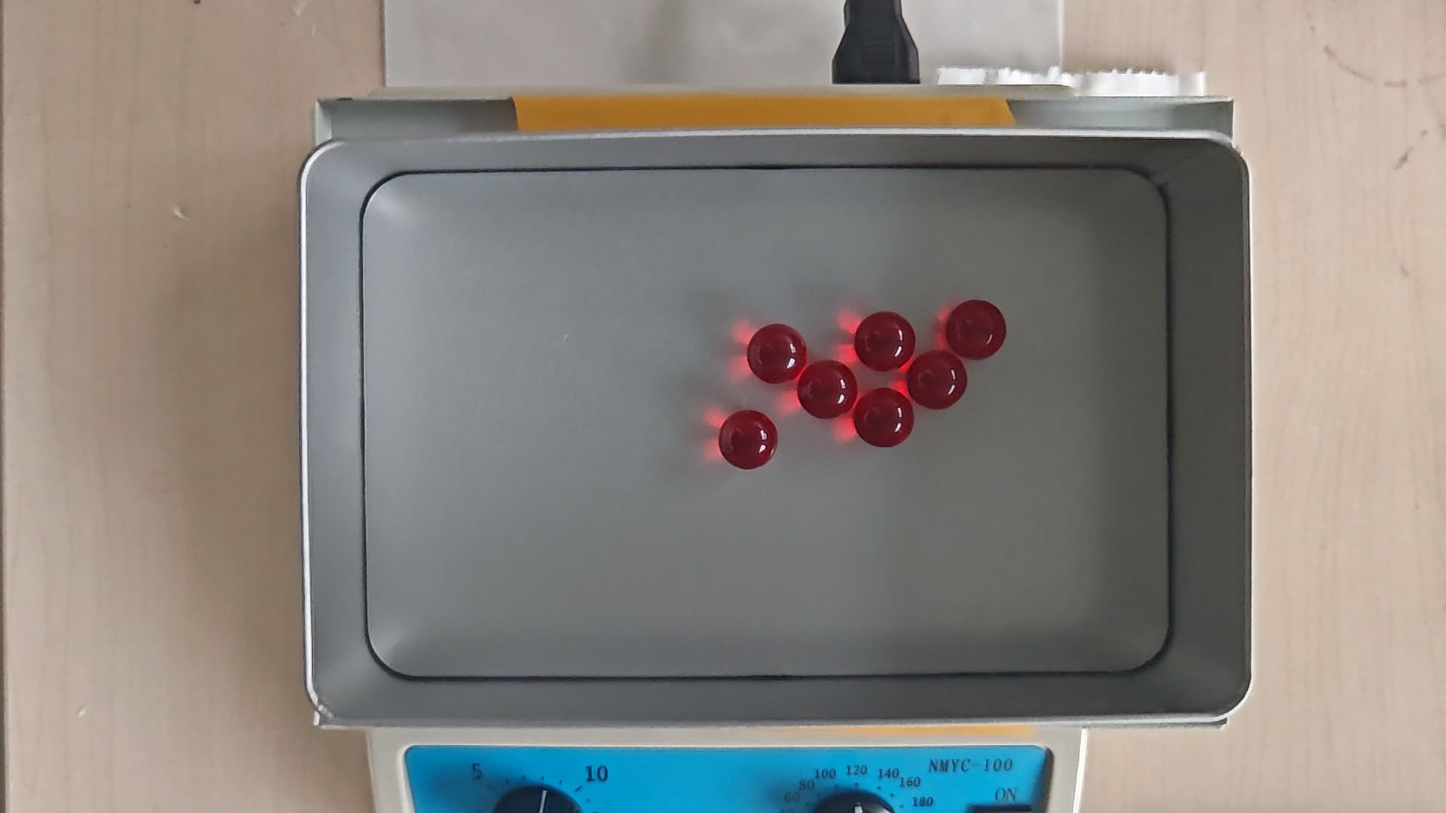ball: (944, 297, 1008, 359), (853, 311, 917, 372), (746, 322, 807, 384), (908, 350, 969, 412), (719, 410, 779, 471), (798, 359, 857, 421), (855, 388, 914, 449)
container: (363, 170, 1171, 676)
